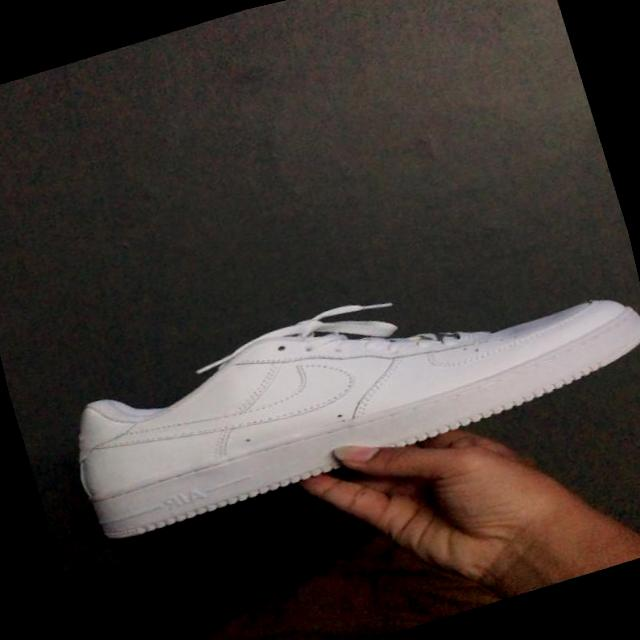nike_fake_airforce: (38, 224, 640, 549)
